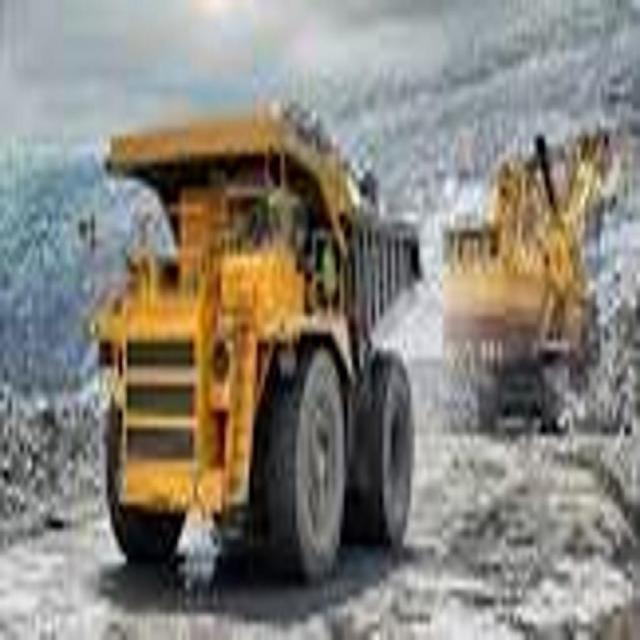dump_truck: (93, 78, 423, 605)
